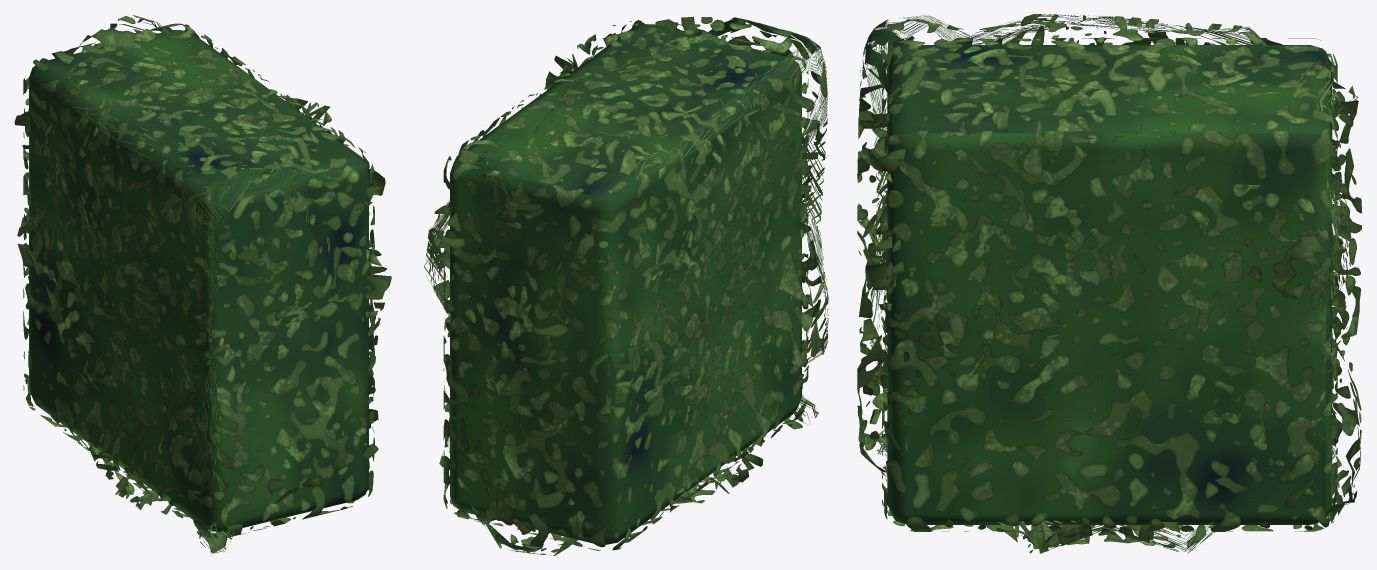
The model's file is BushWall.fbx.
3 renders of one model, left to right at view 1: azimuth 30°, elevation 25°; view 2: azimuth 150°, elevation 25°; view 3: azimuth 270°, elevation 25°, orthographic. The views are drawn at different scales.
Visible parts, largest first — view 1: Bush, Nu kak hosh, Ne bush; view 2: Bush, Nu kak hosh, Ne bush; view 3: Bush, Ne bush, Nu kak hosh.
Boxes of the visible parts, left/top/right/bottom form: Bush: left=29, top=30, right=368, bottom=532; Nu kak hosh: left=14, top=15, right=391, bottom=553; Ne bush: left=23, top=23, right=374, bottom=538; Bush: left=450, top=24, right=801, bottom=544; Nu kak hosh: left=424, top=17, right=828, bottom=555; Ne bush: left=443, top=20, right=808, bottom=550; Bush: left=887, top=45, right=1332, bottom=524; Ne bush: left=882, top=38, right=1337, bottom=531; Nu kak hosh: left=857, top=14, right=1361, bottom=553.
Bounding box in the file's own units: 127 × 227 × 227.
